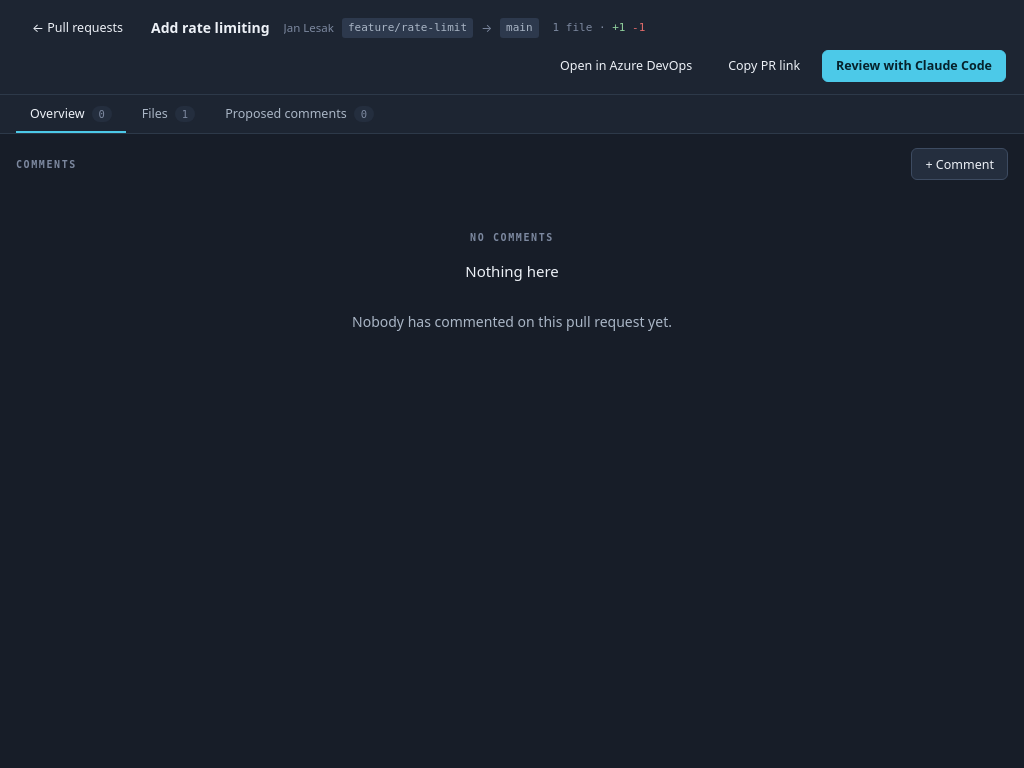
Test: PrDetail change size › a draft from an older source commit remains visible but cannot be approved
Click the button with test id "pr-tab-files": (169, 114) [128,95,209,133]
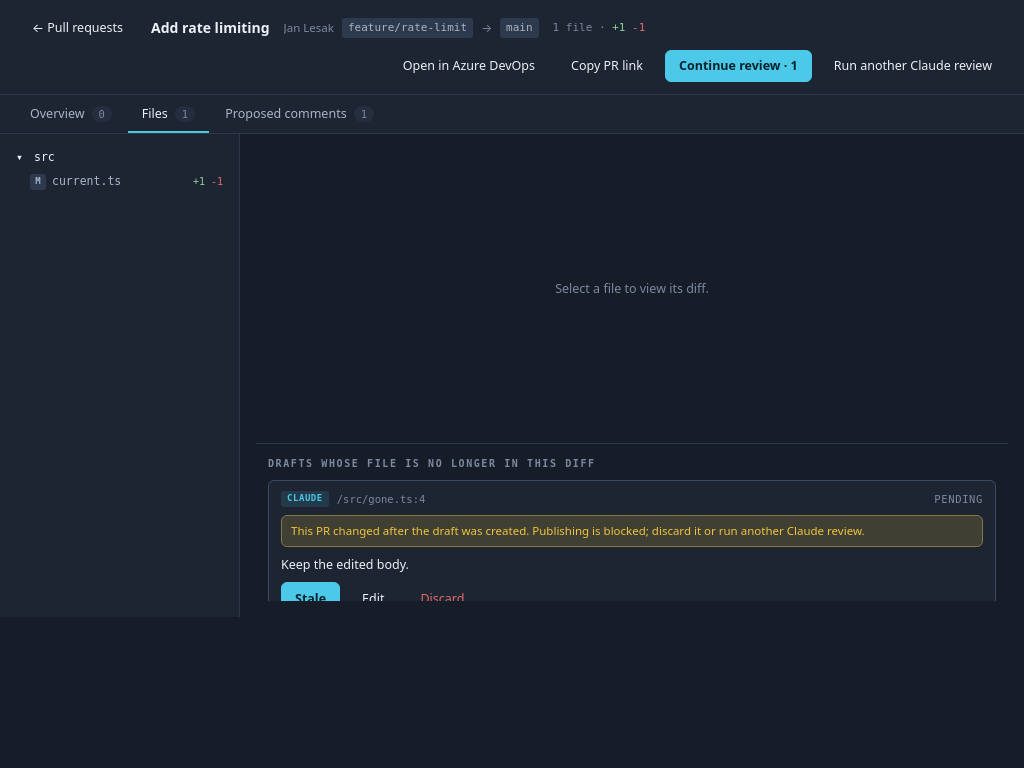
expect the element with test id "pr-detached-drafts" shows "Keep the edited body.": met, box [281,556,409,573]
expect the text with test id "pr-draft-stale-source" is shown: met, box [281,515,983,547]
